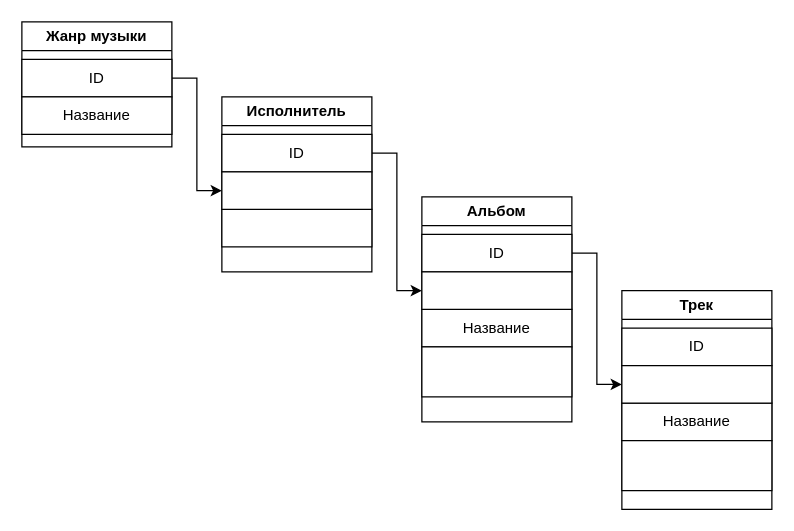
This 794x531 diagram has some shape labels left out. Each missing label, with the centre of its shape:
"ID альбома" belongs at (x=696, y=383).
"ID жанр" belongs at (x=296, y=190).
"ID исполнителя" belongs at (x=496, y=290).
"Год выпуска" belongs at (x=496, y=371).
"Длительность" belongs at (x=696, y=465).
"Имя" belongs at (x=296, y=227).
